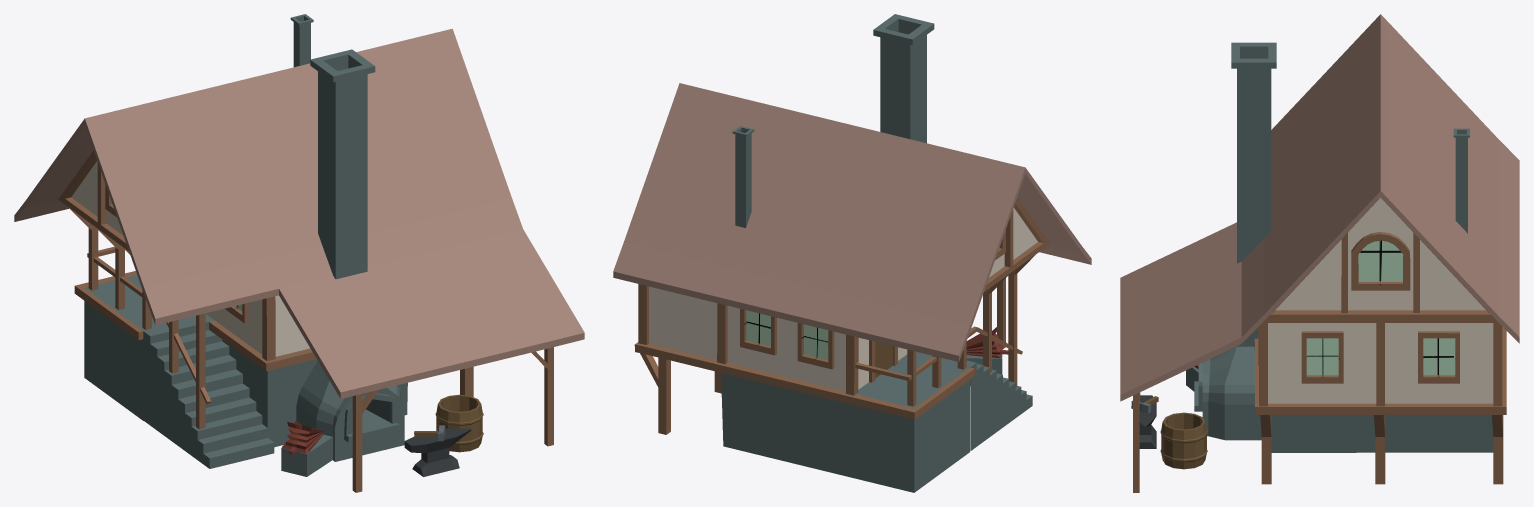
File: SM_Blacksmith.fbx
The picture shows the model from 3 angles, left to right: view 1: azimuth 30°, elevation 25°; view 2: azimuth 150°, elevation 25°; view 3: azimuth 270°, elevation 25°; orthographic projection. The views are drawn at different scales.
Visible parts, largest first — view 1: SM_Blacksmith; view 2: SM_Blacksmith; view 3: SM_Blacksmith.
Part boxes in pixels (x1,y1,x2,y2): SM_Blacksmith: [14, 14, 584, 492]; SM_Blacksmith: [613, 14, 1091, 492]; SM_Blacksmith: [1120, 14, 1519, 492].
Size of the model in its own units: 301 by 293 by 288.
1 material, 1 textured.
